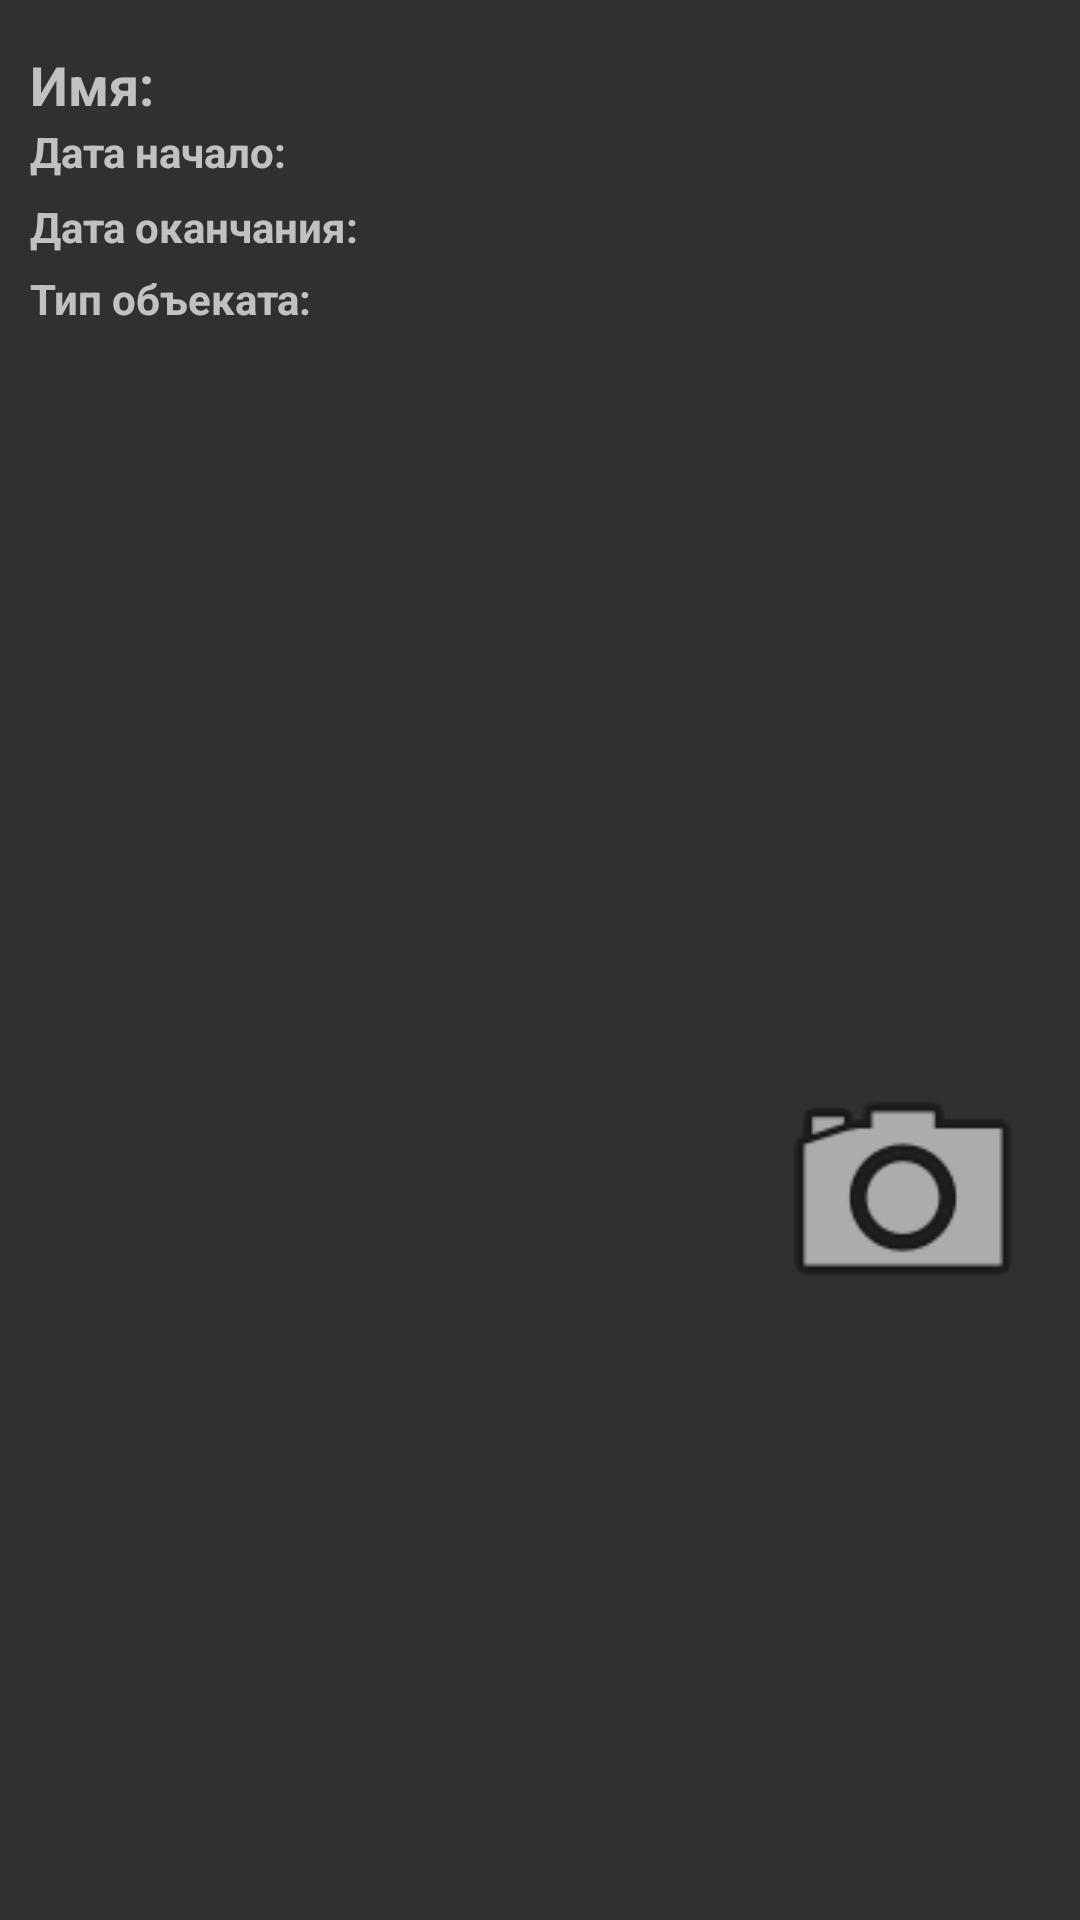

Screen size 1080*1920. Icon name, then its center in pixels as (x=x, y=y):
camera: (x=903, y=1188)
